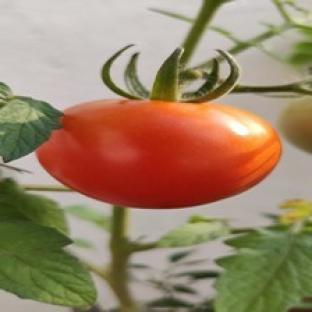Tomato: (37, 99, 281, 208), (279, 97, 311, 153)
